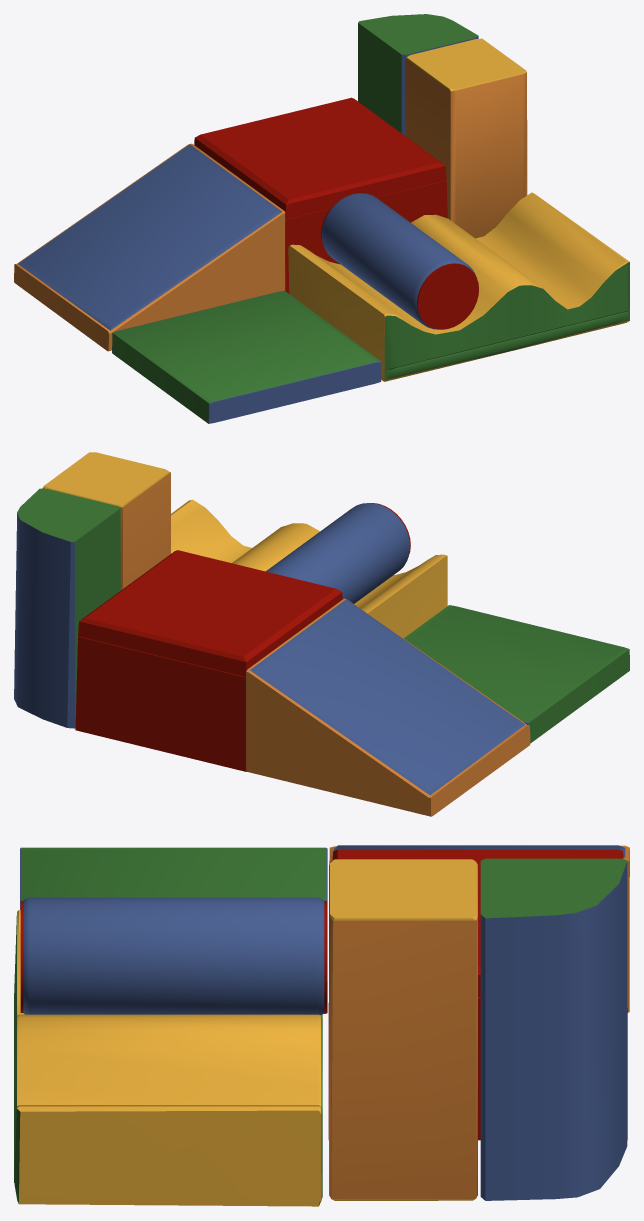
Rendered from softplay.glb.
3 renders of one model, top to bottom at view 1: azimuth 30°, elevation 25°; view 2: azimuth 150°, elevation 25°; view 3: azimuth 270°, elevation 25°, orthographic. The views are drawn at different scales.
Visible parts, largest first — view 1: Cube.002, Cube.001, Cube, Cube.003, Cube.004, Cylinder, Cube.005; view 2: Cube.002, Cube.003, Cube.005, Cube, Cube.001, Cube.004, Cylinder; view 3: Cube.001, Cube.004, Cube.005, Cylinder, Cube, Cube.003, Cube.002.
Boxes of the visible parts, <box> form: Cube.002: <box>14,143,285,351</box>; Cube.001: <box>288,192,629,381</box>; Cube: <box>112,290,381,423</box>; Cube.003: <box>194,97,447,293</box>; Cube.004: <box>405,38,527,238</box>; Cylinder: <box>321,193,478,329</box>; Cube.005: <box>358,14,478,135</box>; Cube.002: <box>246,598,530,816</box>; Cube.003: <box>75,550,342,771</box>; Cube.005: <box>14,488,120,728</box>; Cube: <box>403,605,629,743</box>; Cube.001: <box>171,499,447,638</box>; Cube.004: <box>42,452,170,590</box>; Cylinder: <box>266,503,410,603</box>; Cube.001: <box>14,910,322,1206</box>; Cube.004: <box>329,859,477,1200</box>; Cube.005: <box>480,858,627,1200</box>; Cylinder: <box>20,897,326,1015</box>; Cube: <box>20,847,327,1013</box>; Cube.003: <box>328,849,627,1140</box>; Cube.002: <box>329,845,629,1012</box>.
Size of the model in its own units: 1.04 by 0.4223 by 0.823.
